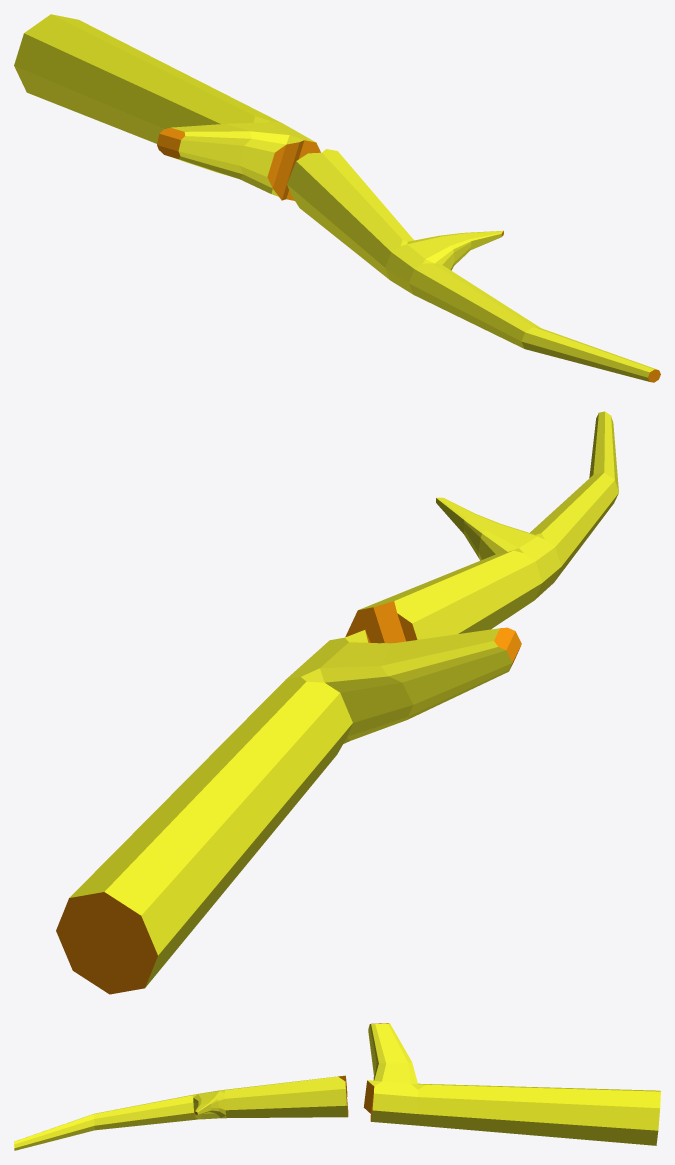
Rendered from Stick_42.fbx.
The picture shows the model from 3 angles, top to bottom: view 1: azimuth 30°, elevation 25°; view 2: azimuth 150°, elevation 25°; view 3: azimuth 270°, elevation 25°; orthographic projection. The views are drawn at different scales.
Visible parts, largest first — view 1: Circle.322, Circle.335; view 2: Circle.322, Circle.335; view 3: Circle.322, Circle.335.
Part boxes in pixels (x1,y1,x2,y2): Circle.322: [14, 14, 320, 200]; Circle.335: [287, 149, 660, 382]; Circle.322: [56, 627, 521, 994]; Circle.335: [345, 411, 618, 643]; Circle.322: [363, 1023, 660, 1145]; Circle.335: [14, 1075, 348, 1150].
Size of the model in its own units: 9.65 by 5.99 by 37.36.
